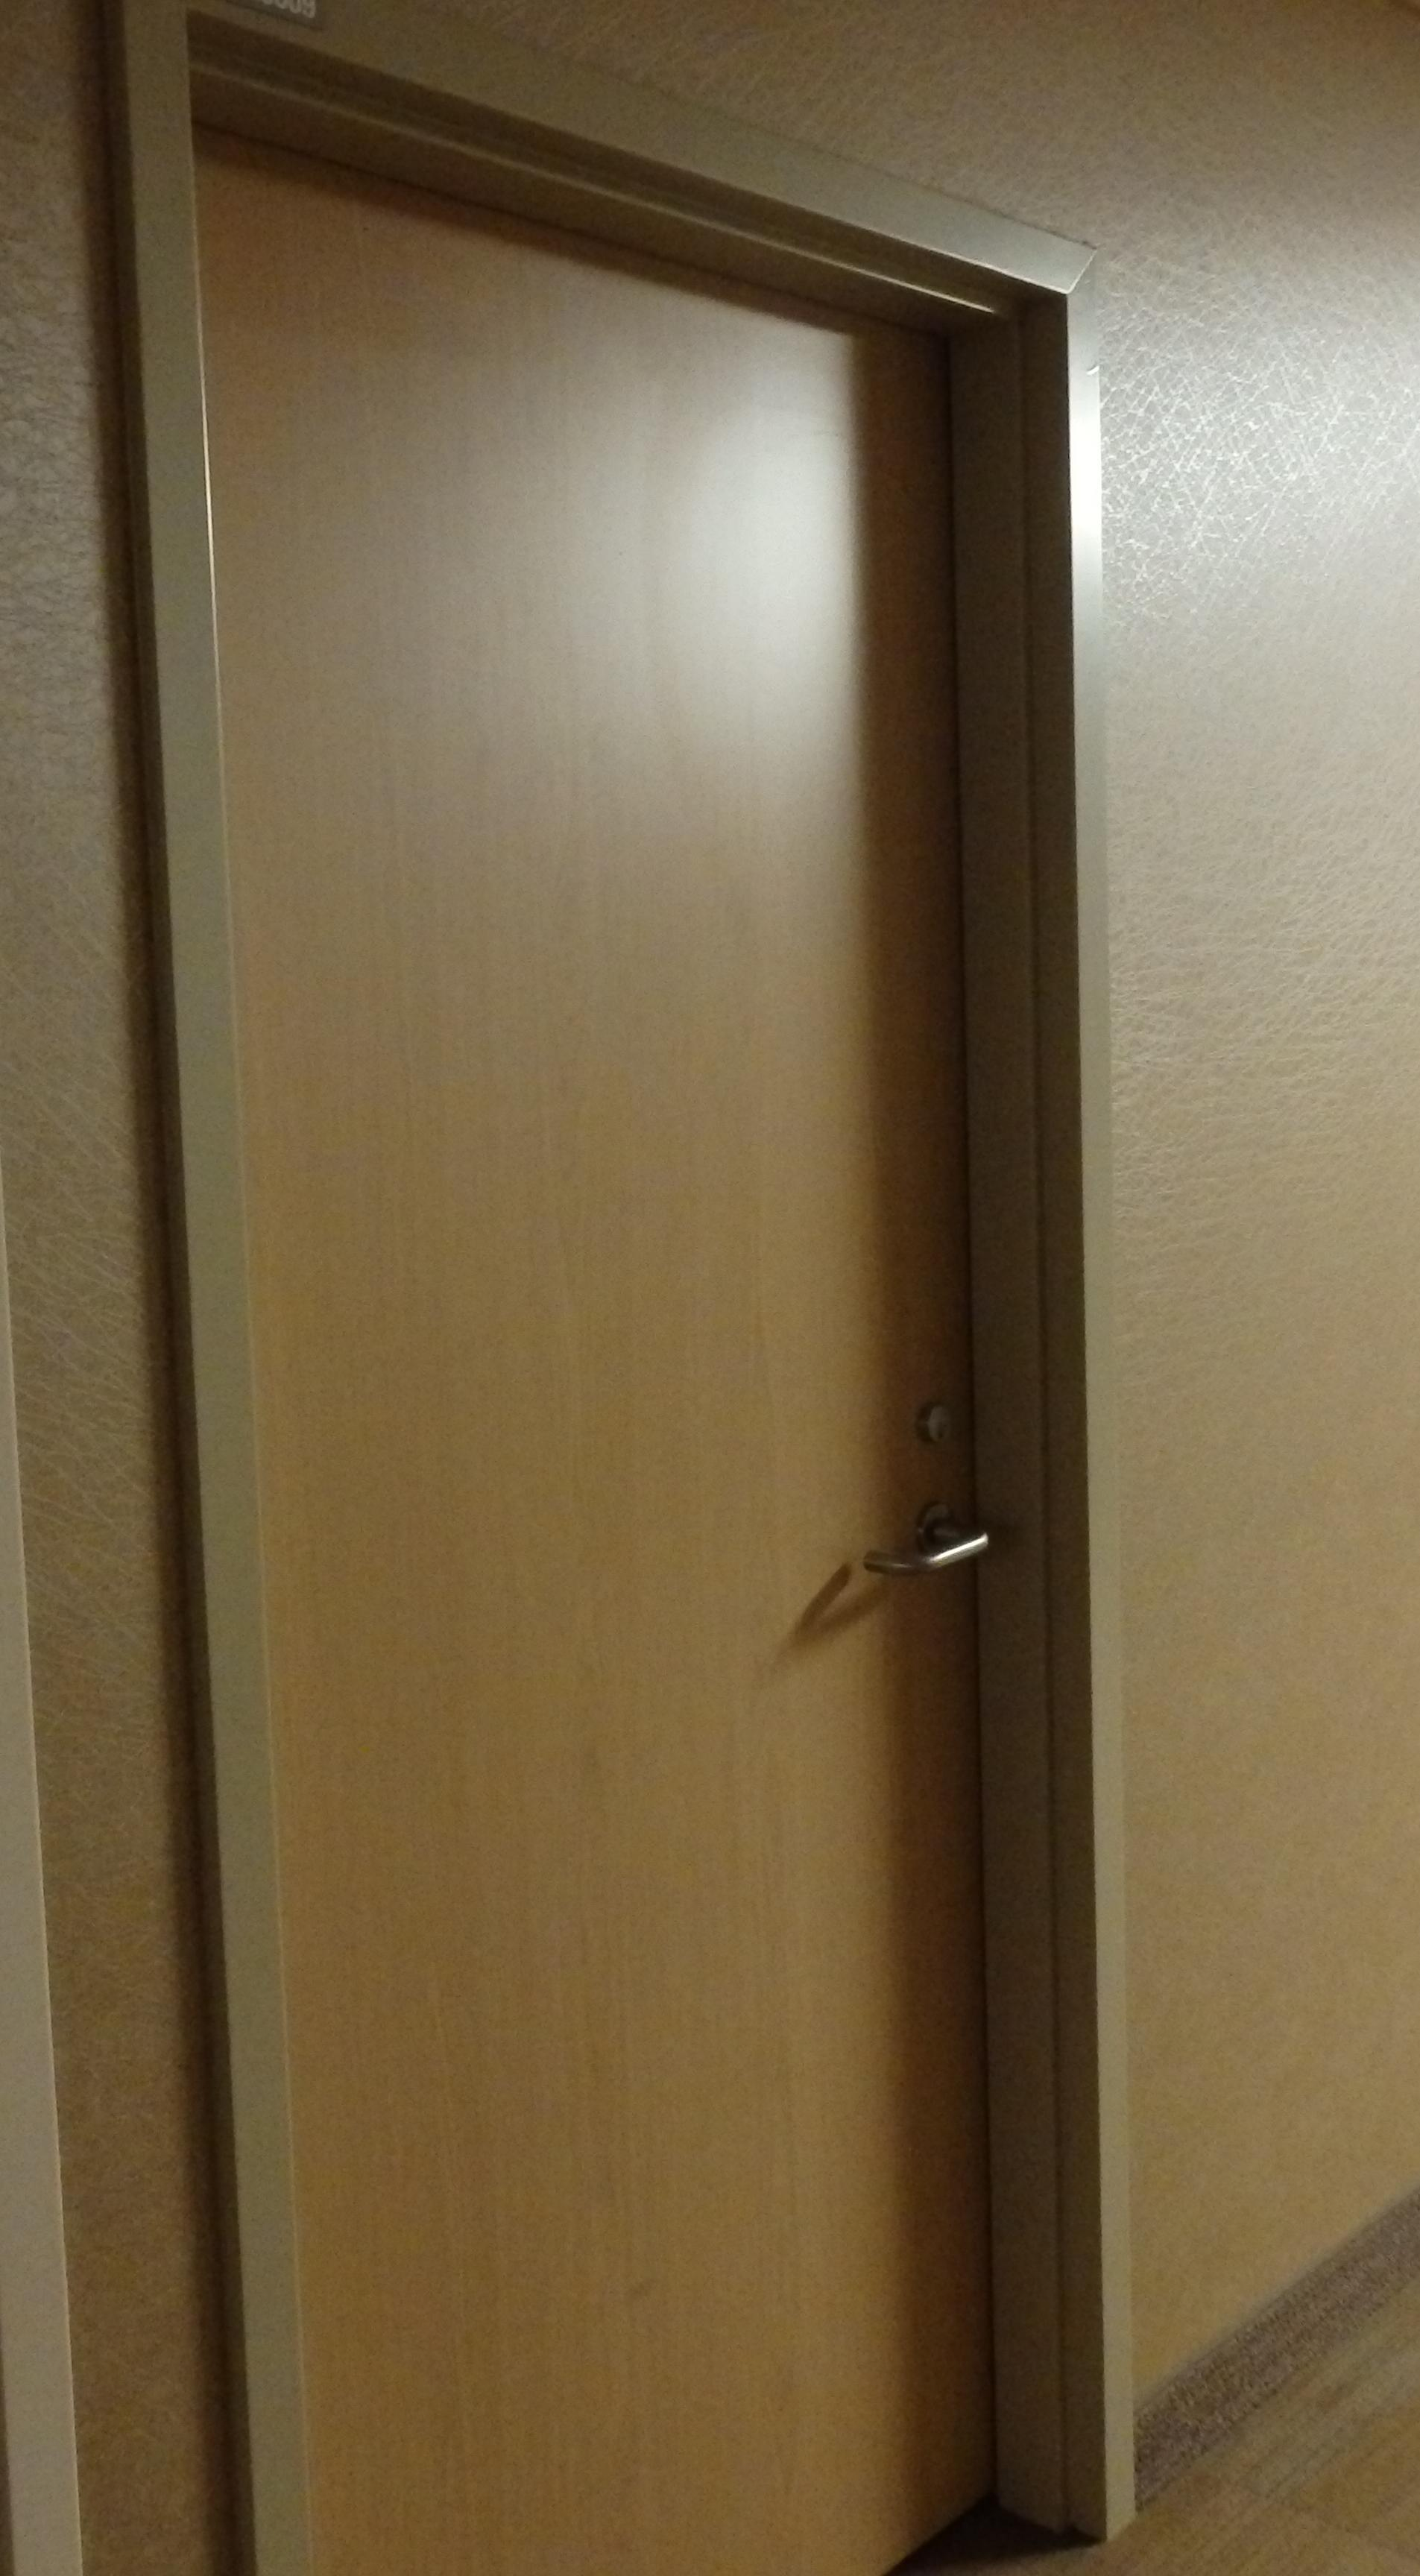door: (163, 23, 1072, 2548)
